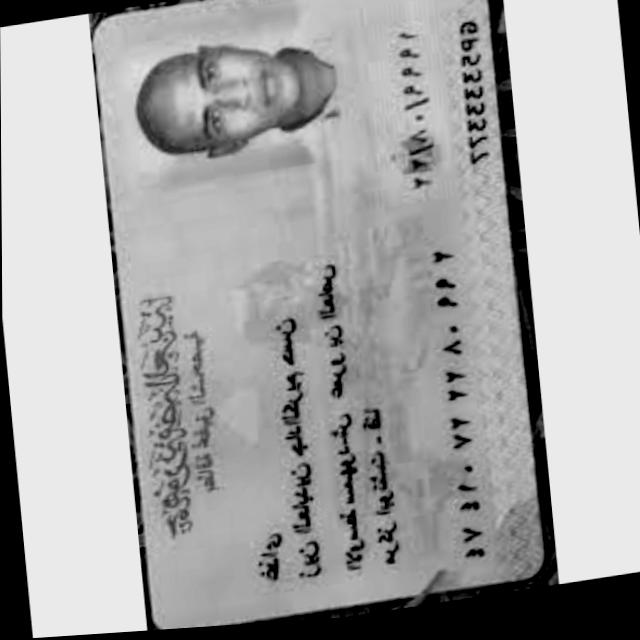id_card: (92, 0, 542, 629)
